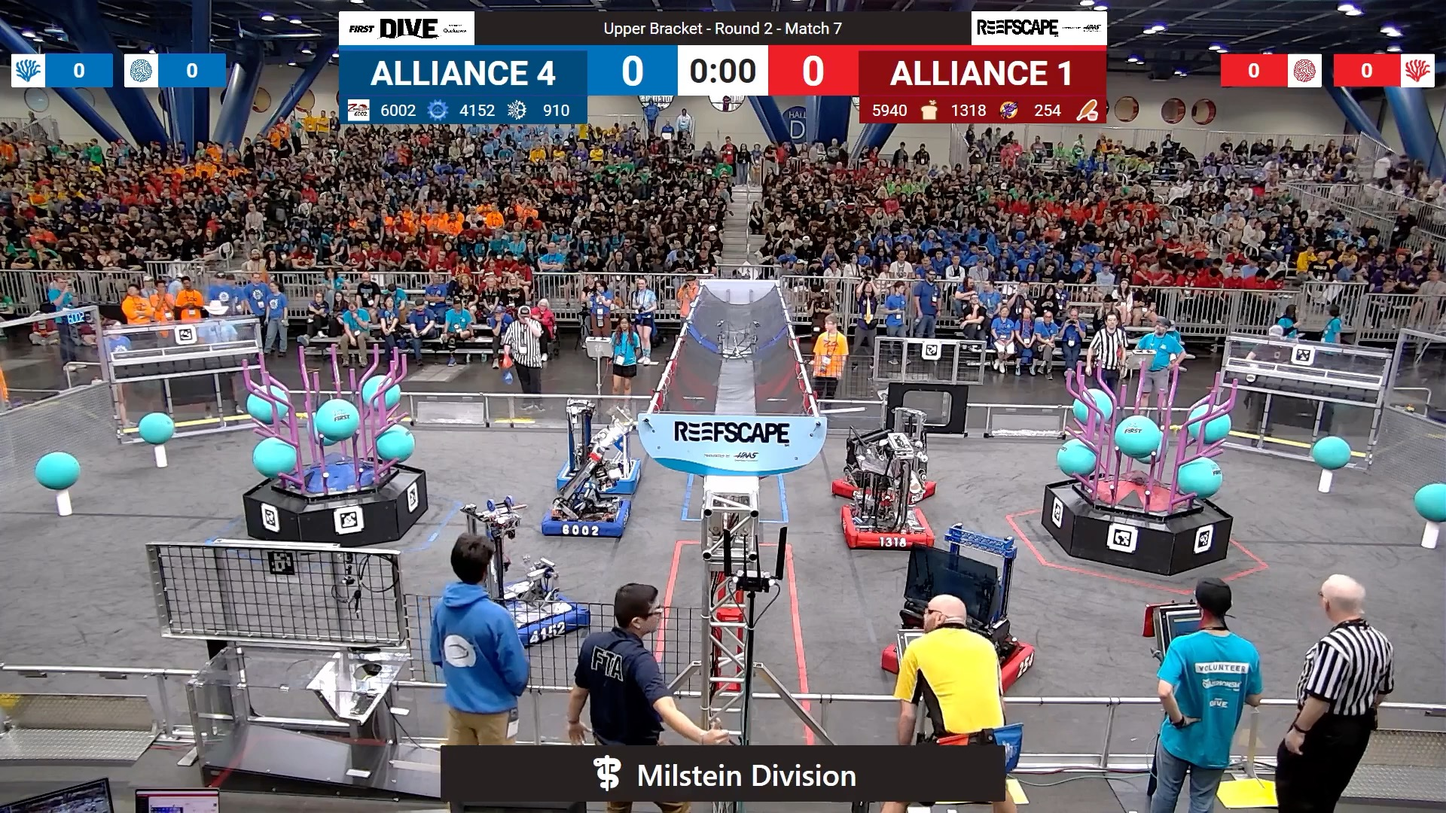bumpers: (876, 625, 1036, 697), (423, 589, 588, 655), (833, 500, 938, 553), (536, 495, 634, 545), (826, 468, 942, 506), (558, 459, 645, 500)
